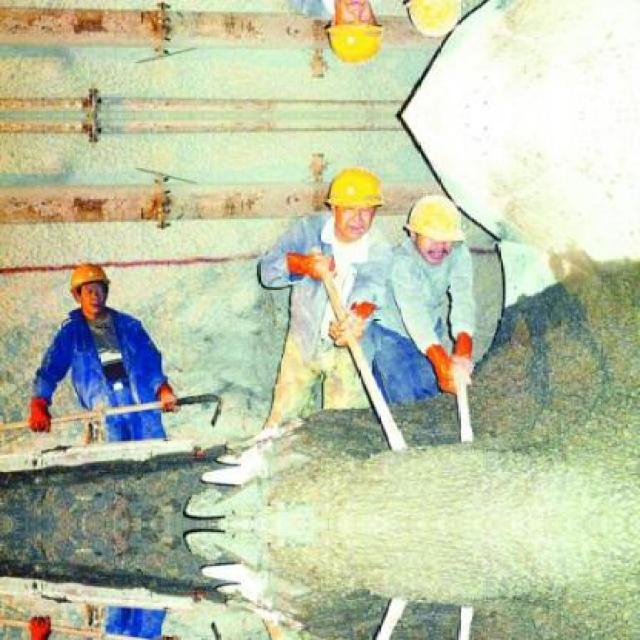helmet: (323, 162, 385, 242), (323, 0, 386, 71), (404, 191, 464, 261), (61, 258, 114, 317), (403, 0, 465, 40)
